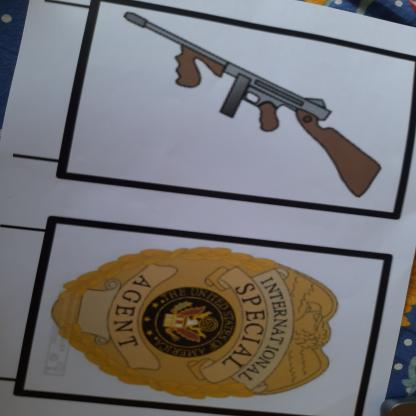Bootlegger: (111, 9, 390, 202)
G-man: (43, 240, 351, 406)
